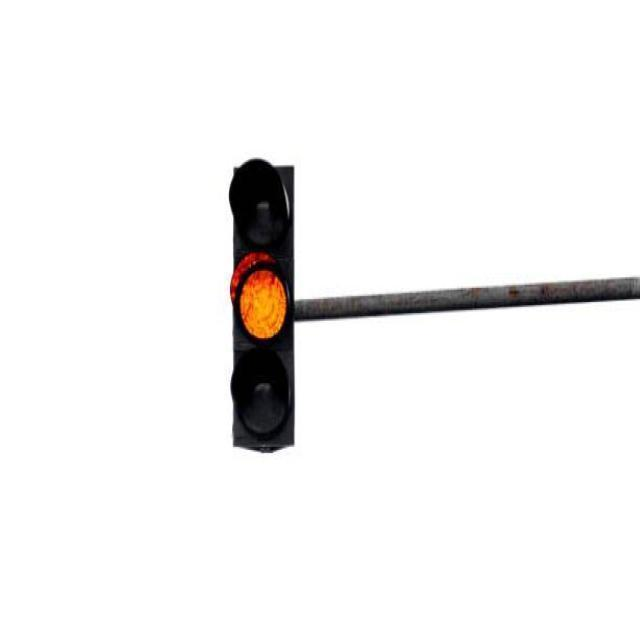yellow_light: (231, 168, 294, 444)
